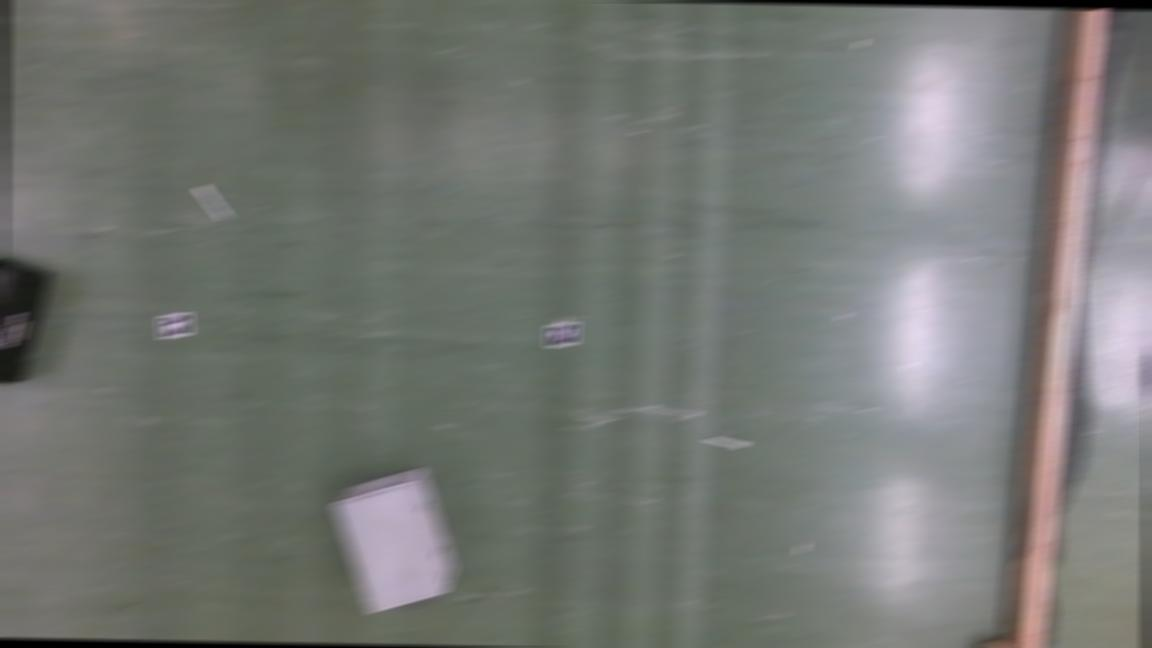probes: (198, 185, 230, 218), (709, 436, 748, 448)
rako: (328, 465, 458, 613), (0, 249, 52, 388)
